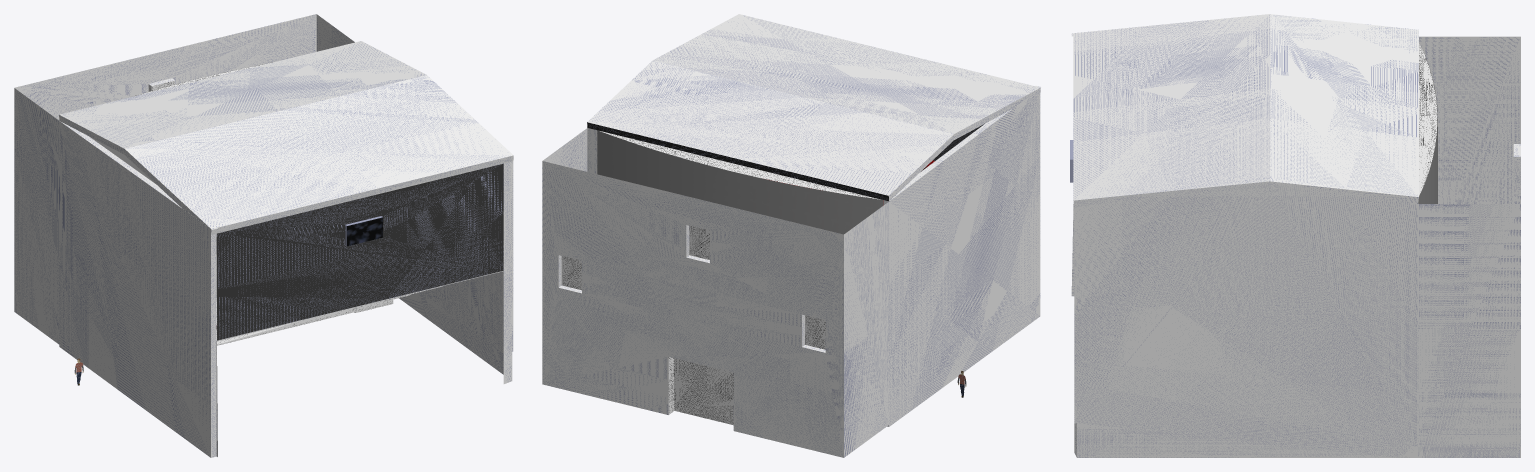
The picture shows the model from 3 angles, left to right: view 1: azimuth 30°, elevation 25°; view 2: azimuth 150°, elevation 25°; view 3: azimuth 270°, elevation 25°; orthographic projection. The views are drawn at different scales.
Visible parts, largest first — view 1: SketchUp (×5); view 2: SketchUp (×9); view 3: SketchUp (×3).
Part boxes in pixels (<box>): SketchUp (×5): <box>14,14,513,457</box>; SketchUp (×9): <box>542,14,1041,457</box>; SketchUp (×3): <box>1071,14,1520,457</box>.
Size of the model in its own units: 922 by 952 by 650.
